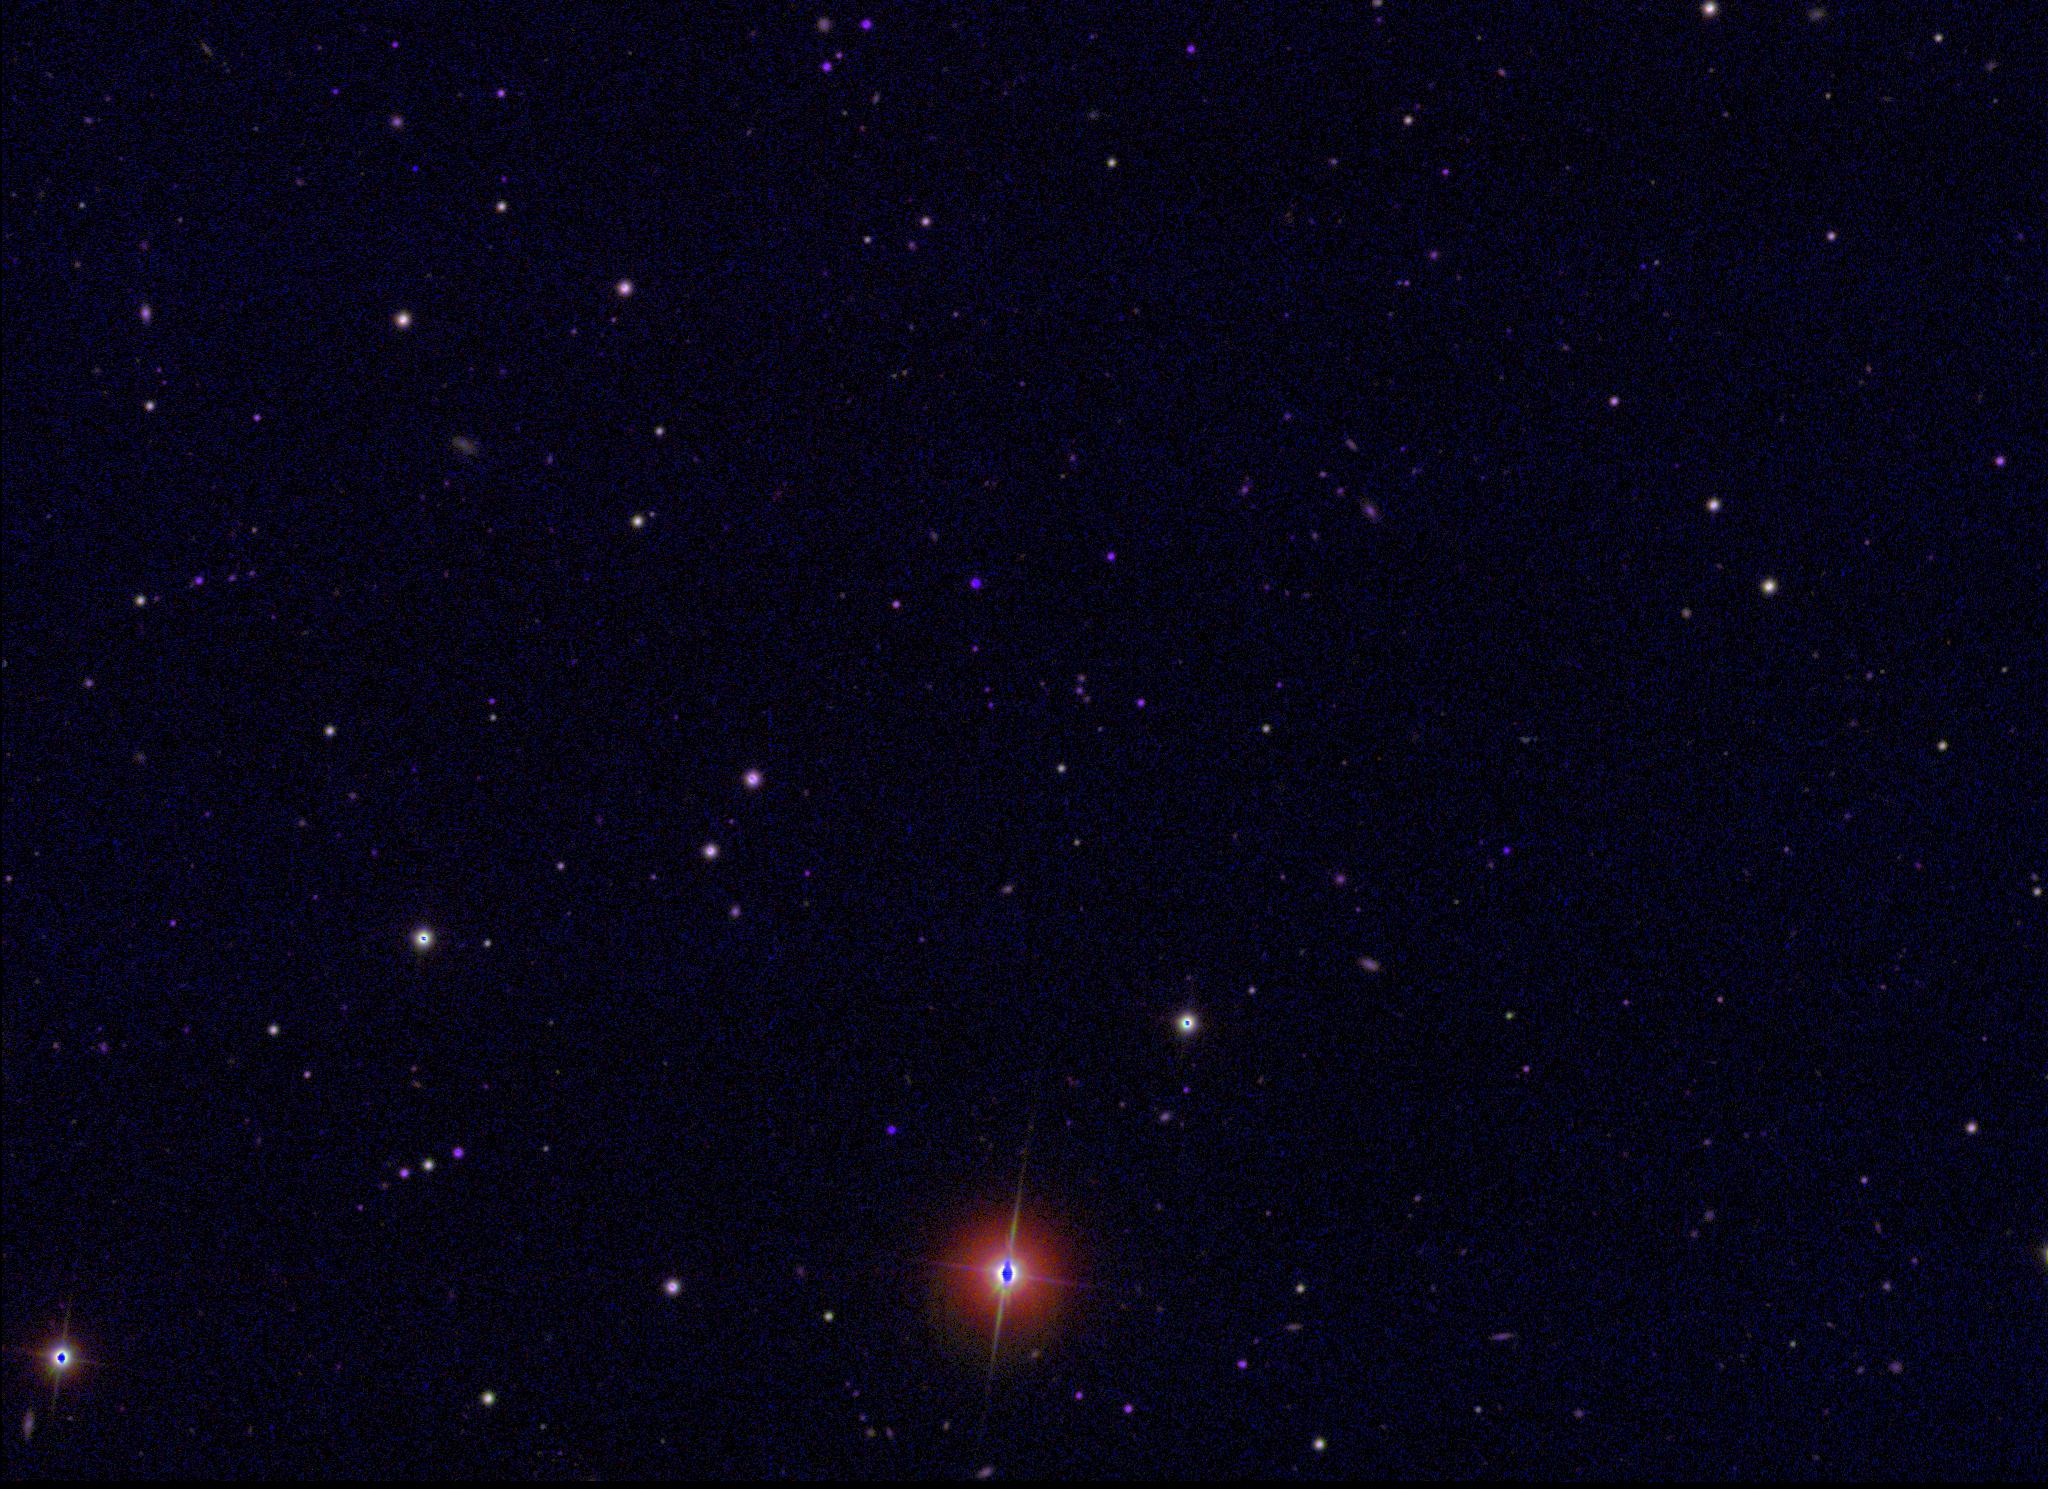L: (409, 161, 421, 173)
